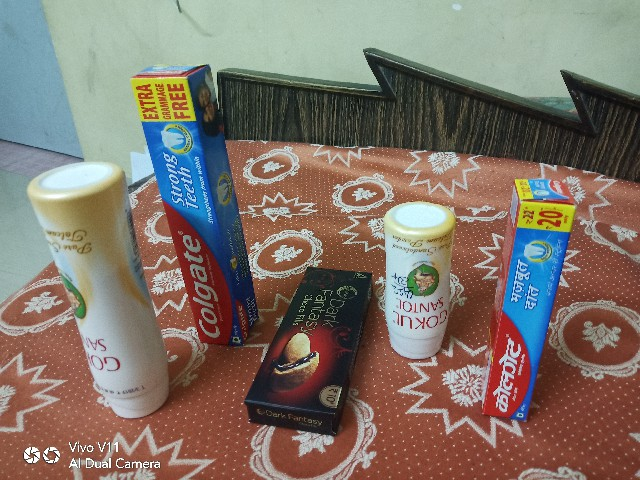colgatetoothpaste big: (130, 51, 261, 348)
colgatetoothpaste small: (477, 162, 586, 451)
darkfantasy small: (247, 245, 373, 443)
gokulsantol big: (20, 146, 180, 419)
gokulsantol small: (376, 191, 461, 360)
